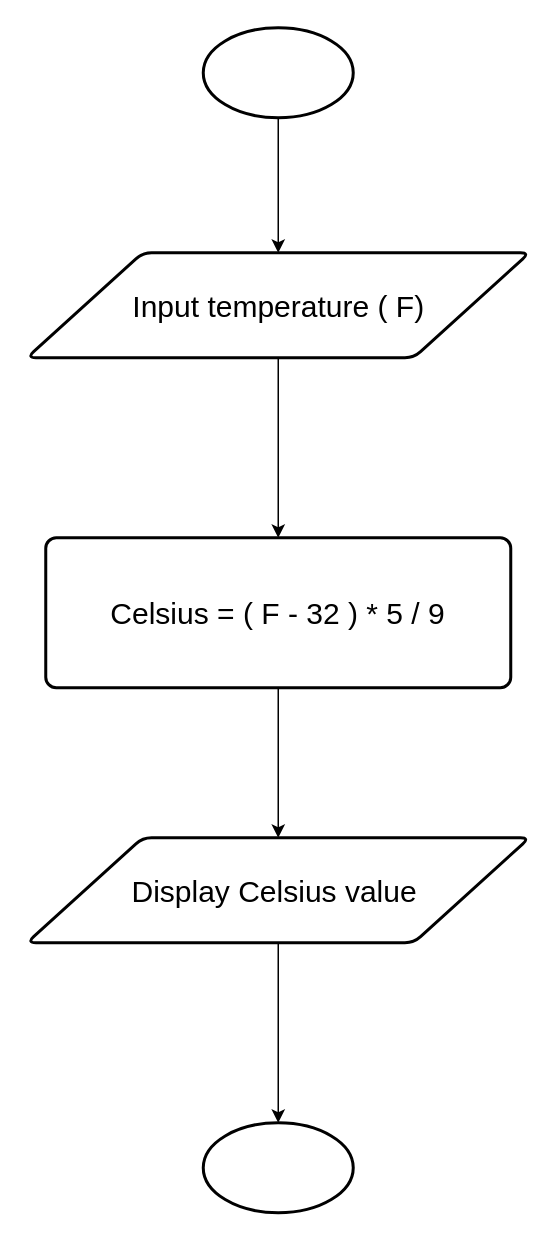
This 557x1239 diagram has some shape labels left out. Here are the shapes that lost their labels. From the top down, the centre of each, then its label:
point 277,72: Start
point 277,1167: End
